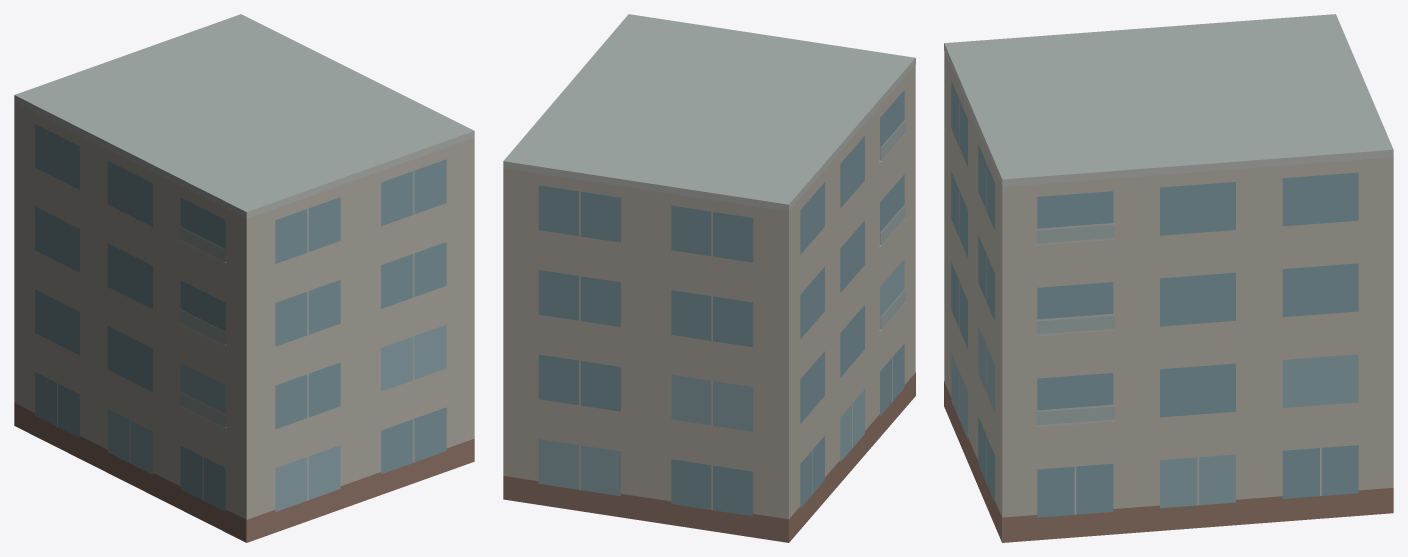
File: survey-upis-33008254.glb
3 renders of one model, left to right at view 1: azimuth 30°, elevation 25°; view 2: azimuth 150°, elevation 25°; view 3: azimuth 270°, elevation 25°, orthographic. The views are drawn at different scales.
Visible parts, largest first — view 1: survey-upis-33008254.tmp; view 2: survey-upis-33008254.tmp; view 3: survey-upis-33008254.tmp.
Boxes of the visible parts, x1,y1,x2,y2 form: survey-upis-33008254.tmp: (14, 14, 474, 542); survey-upis-33008254.tmp: (503, 14, 915, 542); survey-upis-33008254.tmp: (944, 14, 1393, 542).
Size of the model in its own units: 11.58 by 11.85 by 13.29.
